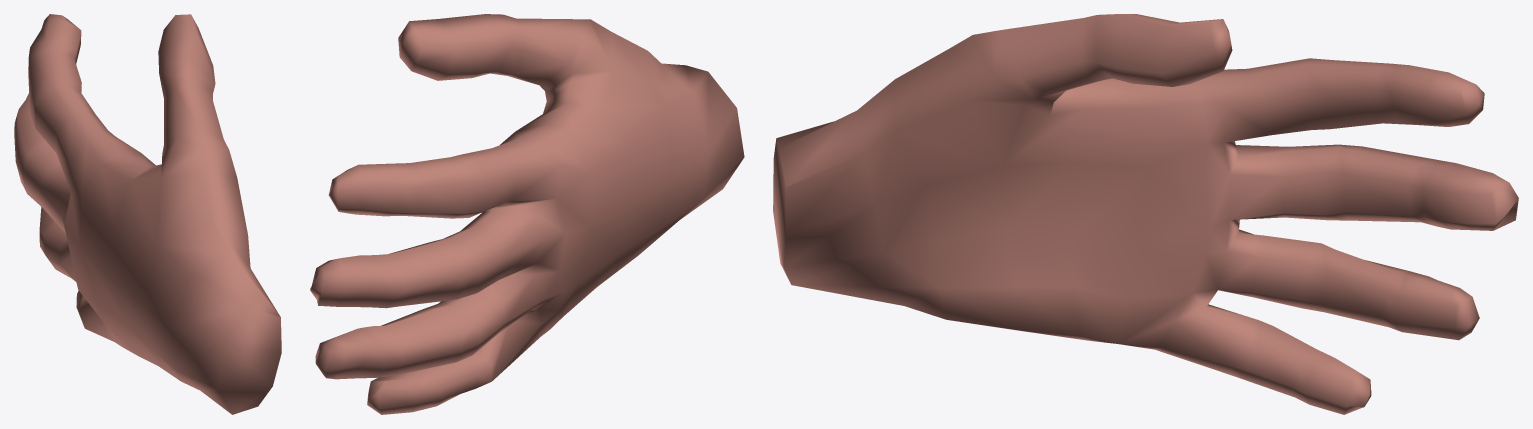
File: hand.l.glb
3 views of the same model, side by side, from view 1: azimuth 30°, elevation 25°; view 2: azimuth 150°, elevation 25°; view 3: azimuth 270°, elevation 25° (orthographic). The views are drawn at different scales.
Parts seen in each view (by area): view 1: Wolf3D_Body.001; view 2: Wolf3D_Body.001; view 3: Wolf3D_Body.001.
Boxes of the visible parts, x1,y1,x2,y2 form: Wolf3D_Body.001: (14, 14, 281, 414); Wolf3D_Body.001: (310, 14, 744, 414); Wolf3D_Body.001: (773, 14, 1518, 414).
Size of the model in its own units: 1.05 by 2.01 by 3.32.
Materials: 1 (1 with a texture image).
